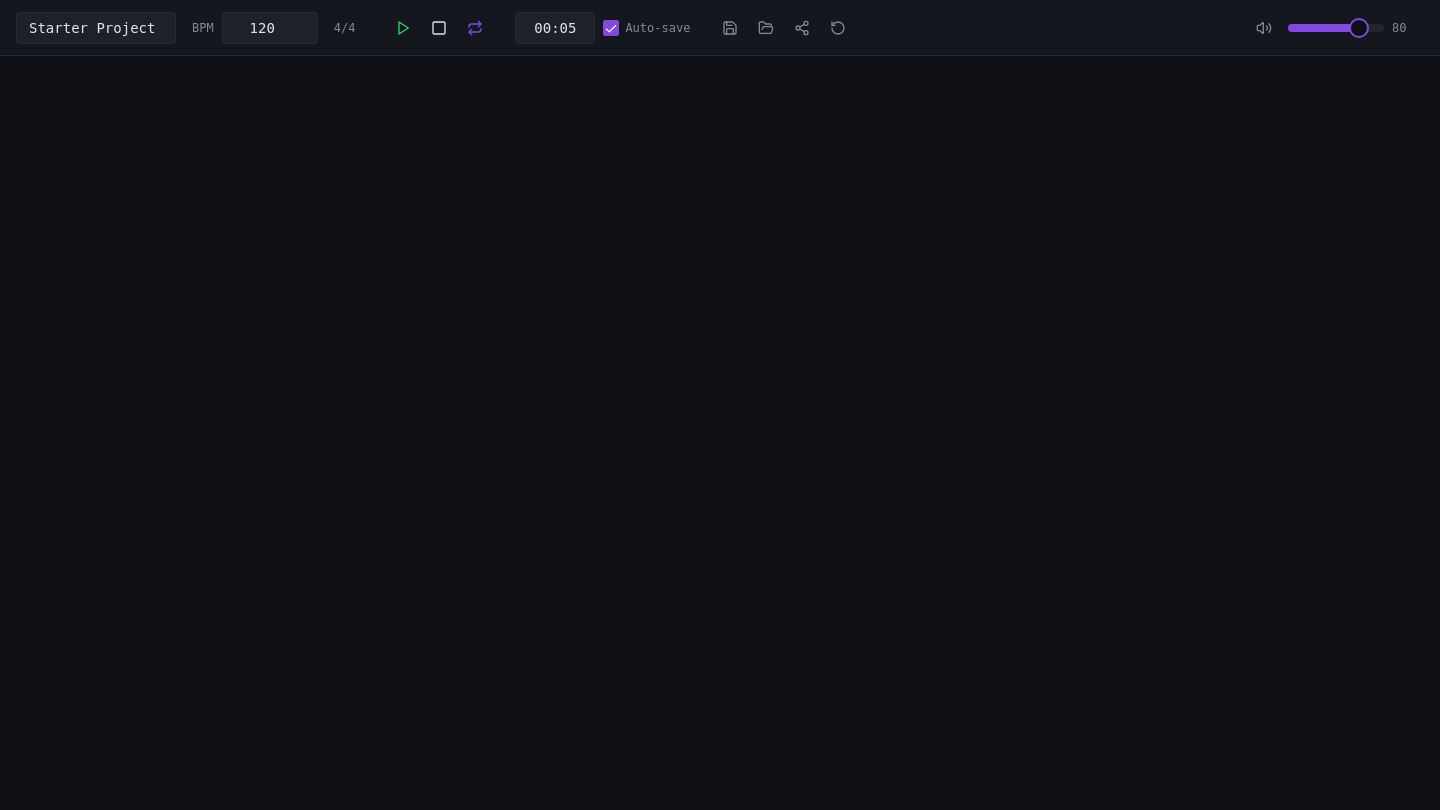
Test case: TopBar › reset returns the project to defaults
Replace the text in the field showing "Starter Project" with "My Groove" at (96, 28), box [16, 12, 176, 44]
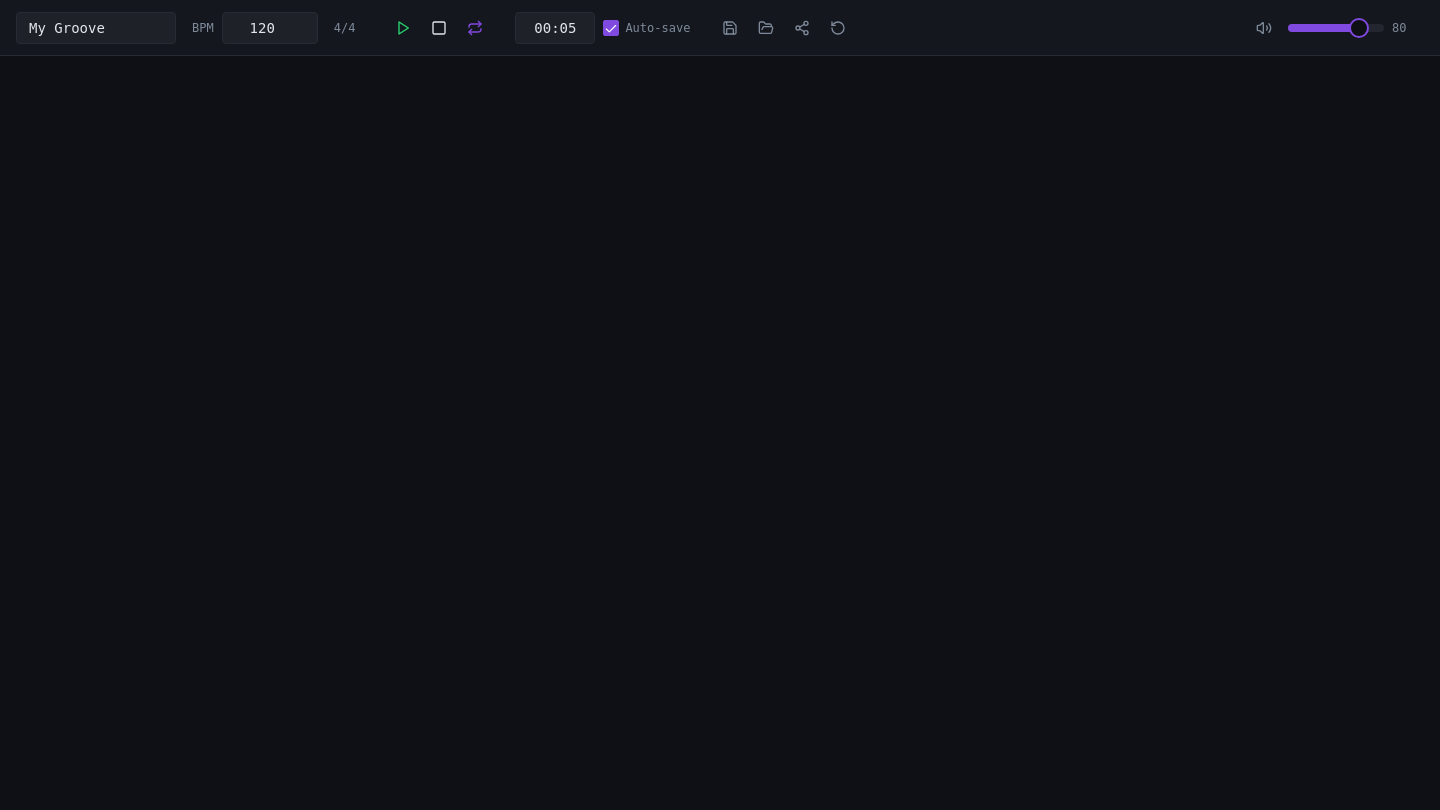
Click the button named "Reset project".
click(838, 28)  # box [822, 12, 854, 44]
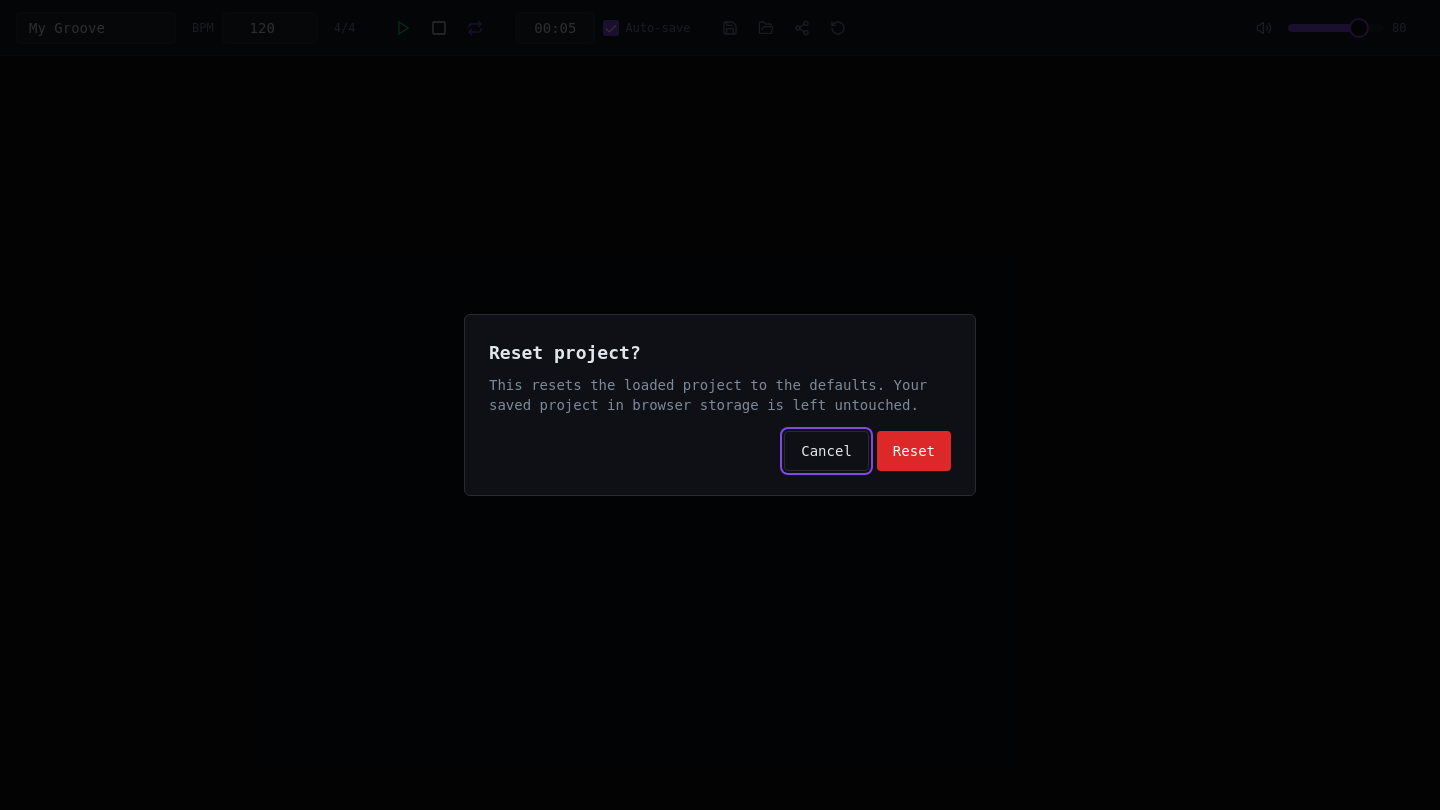
Click the button "Reset".
click(914, 451)  # box [877, 431, 951, 471]
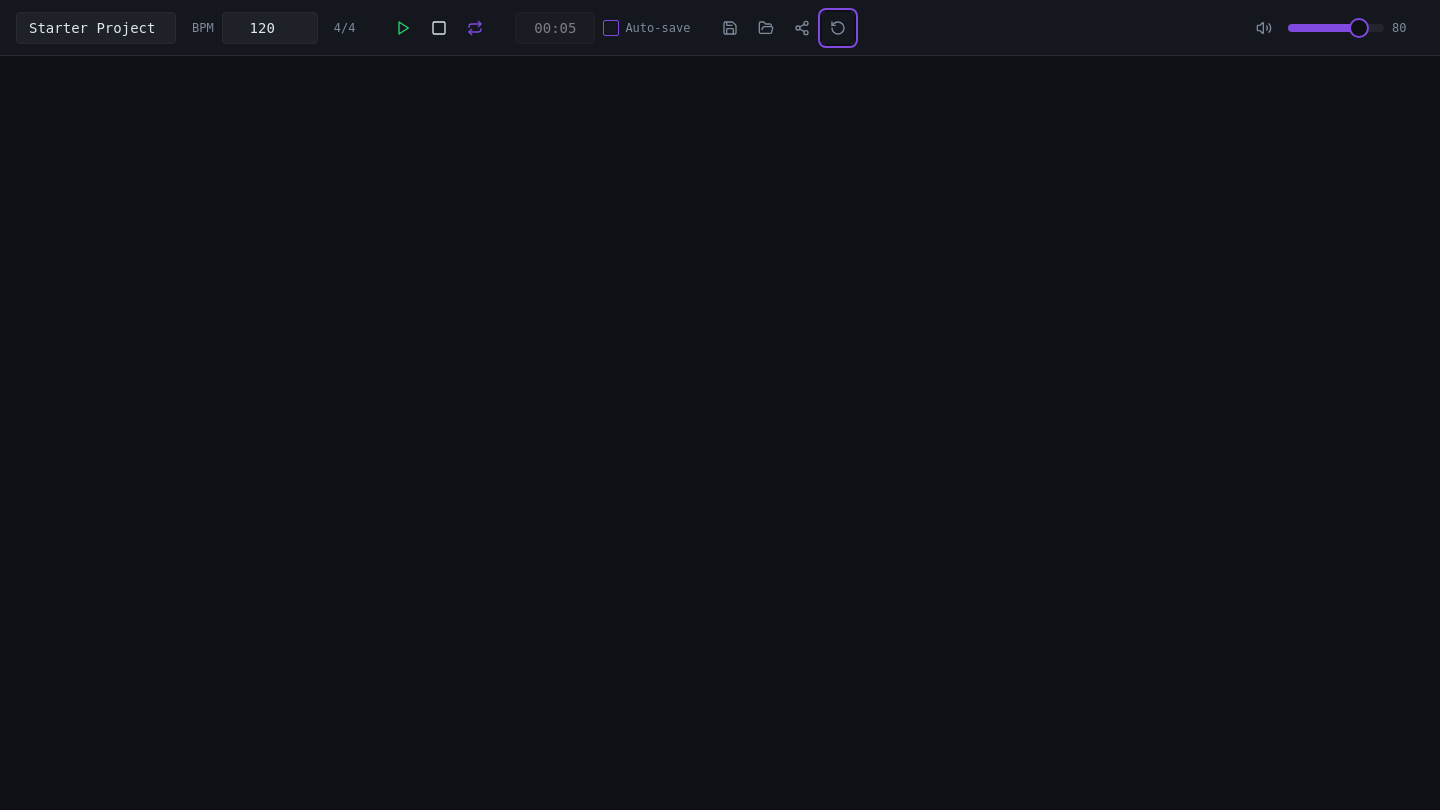
expect the field showing "Starter Project" is shown: met, box [16, 12, 176, 44]
